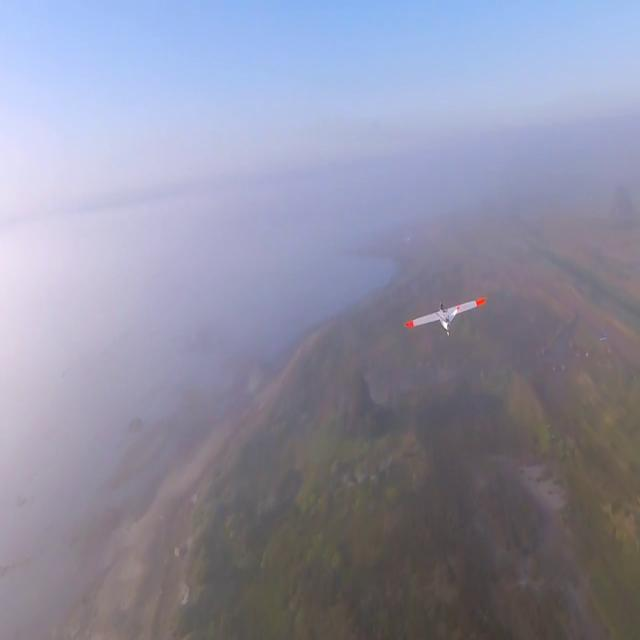iha: (438, 296, 454, 337)
